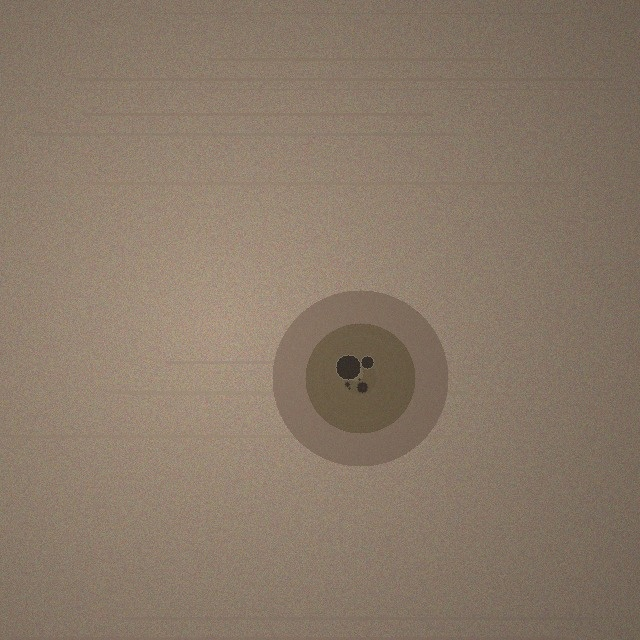shrinkage: (272, 290, 448, 466)
